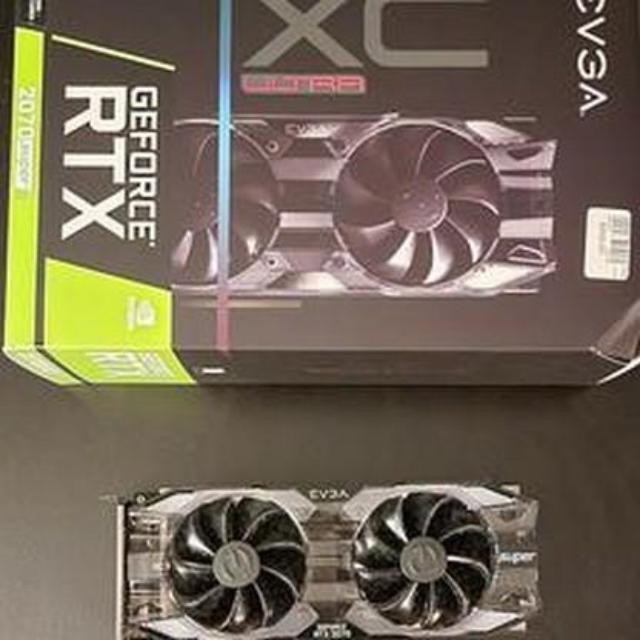GPU: (97, 469, 546, 640)
